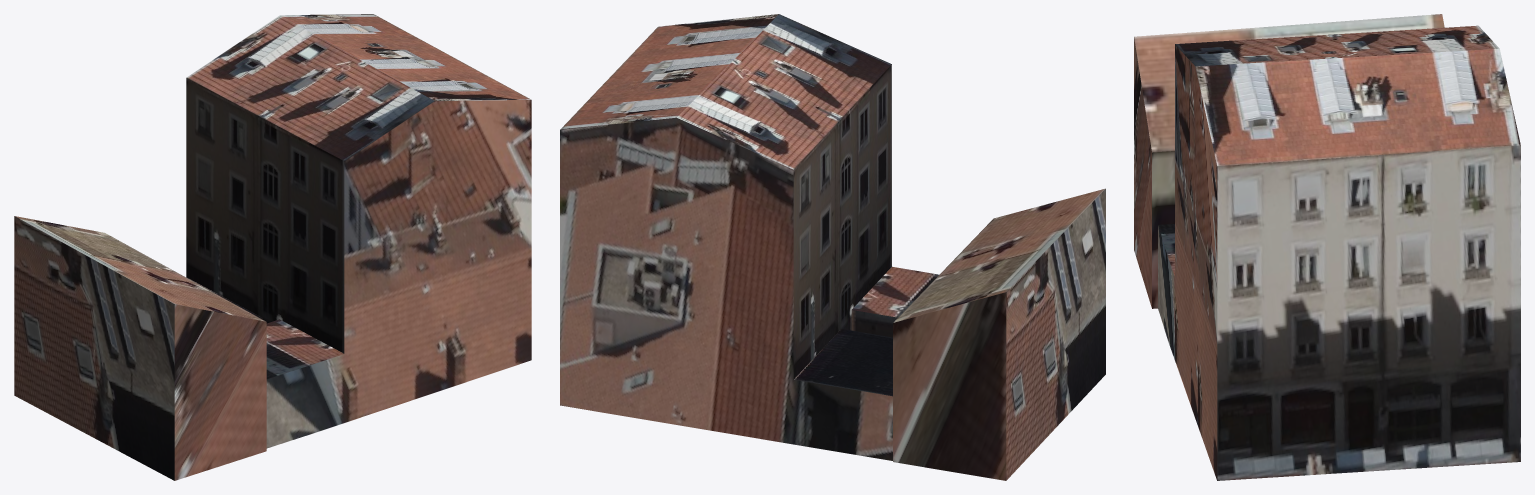
The picture shows the model from 3 angles, left to right: view 1: azimuth 30°, elevation 25°; view 2: azimuth 150°, elevation 25°; view 3: azimuth 270°, elevation 25°; orthographic projection. The views are drawn at different scales.
Visible parts, largest first — view 1: Z_UP; view 2: Z_UP; view 3: Z_UP.
Part boxes in pixels (x1=…): Z_UP: x1=14, y1=14, x2=531, y2=480; Z_UP: x1=560, y1=14, x2=1105, y2=480; Z_UP: x1=1134, y1=14, x2=1520, y2=480.
Bounding box in the file's own units: 27.94 × 18.39 × 18.27.
2 materials, 1 textured.
